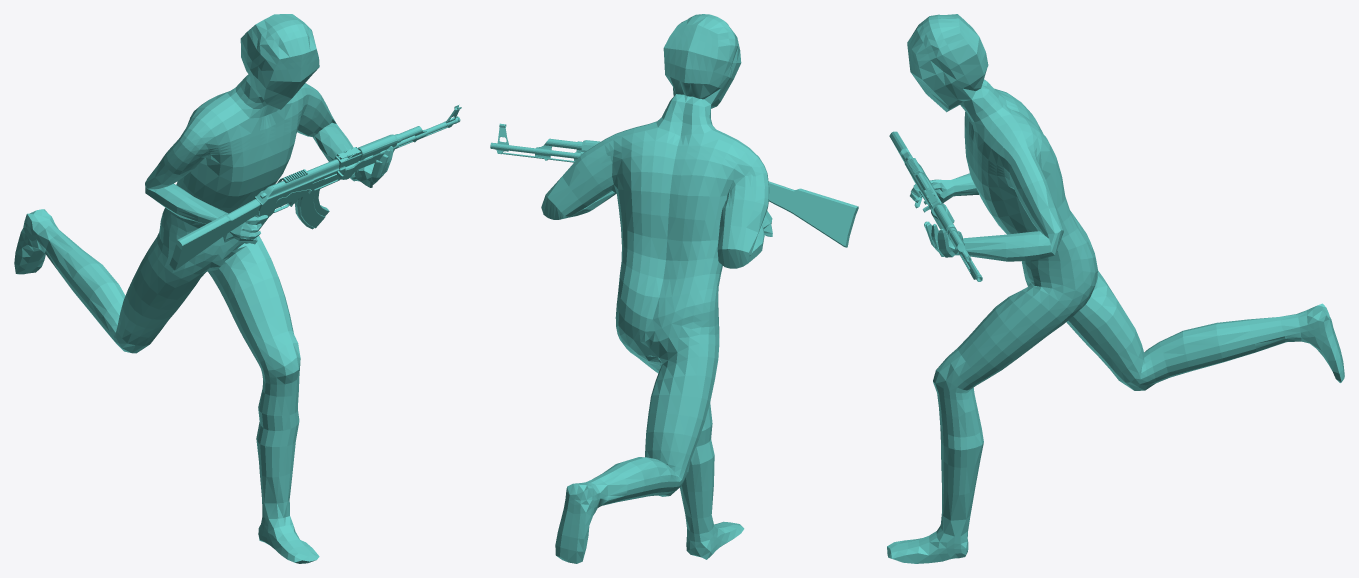
Rendered from playerRun.obj.
3 renders of one model, left to right at view 1: azimuth 30°, elevation 25°; view 2: azimuth 150°, elevation 25°; view 3: azimuth 270°, elevation 25°, orthographic. The views are drawn at different scales.
Visible parts, largest first — view 1: Cube_Cube.001; view 2: Cube_Cube.001; view 3: Cube_Cube.001.
Boxes of the visible parts, x1=… form: Cube_Cube.001: x1=14, y1=14, x2=461, y2=563; Cube_Cube.001: x1=490, y1=14, x2=858, y2=563; Cube_Cube.001: x1=887, y1=14, x2=1344, y2=563.
Bounding box in the file's own units: 4.38 × 6.85 × 5.26.
Materials: 1 (1 with a texture image).
